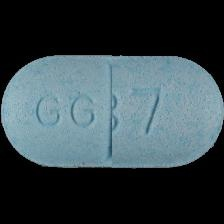0781-5191: (0, 0, 224, 224)
